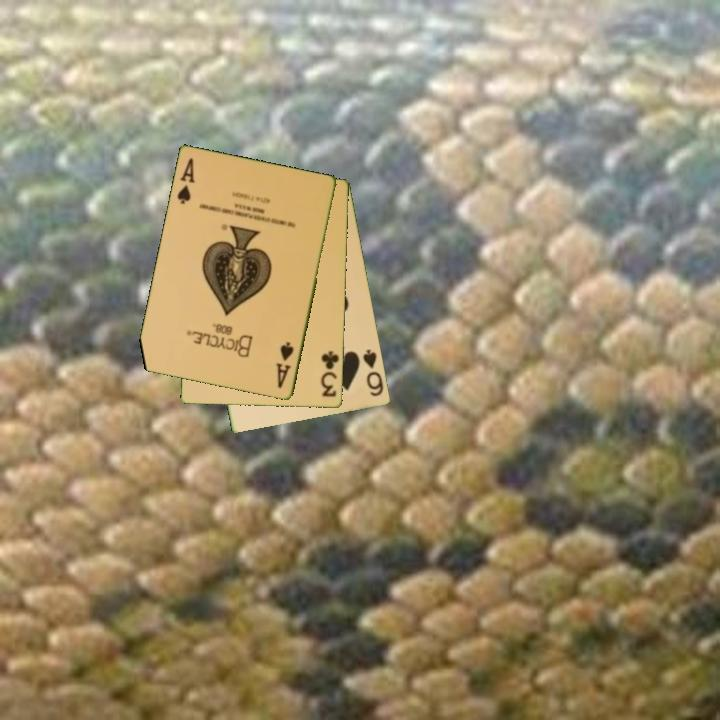3c: (318, 348, 342, 400)
6s: (359, 346, 387, 399)
As: (273, 338, 297, 391), (174, 155, 198, 207)
